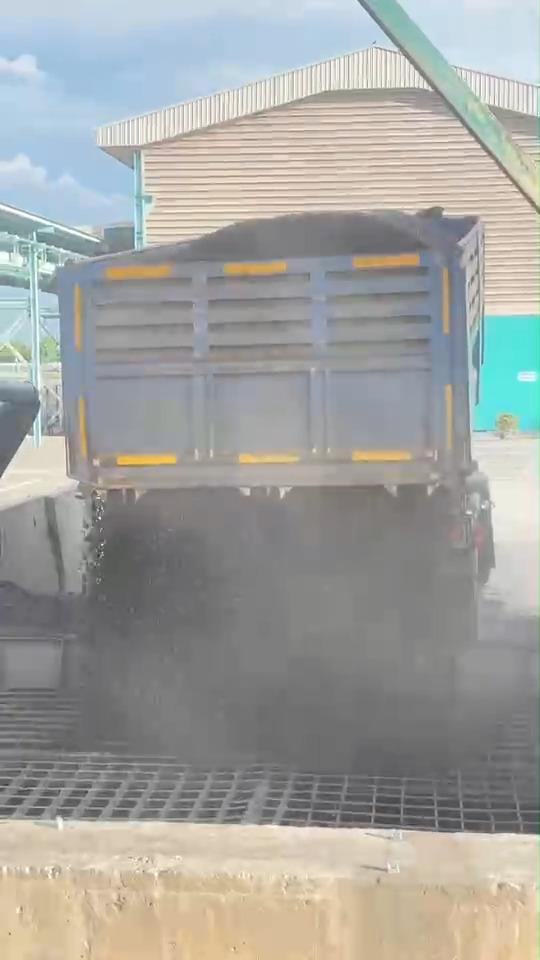gravel: (95, 483, 484, 771), (199, 214, 373, 257)
